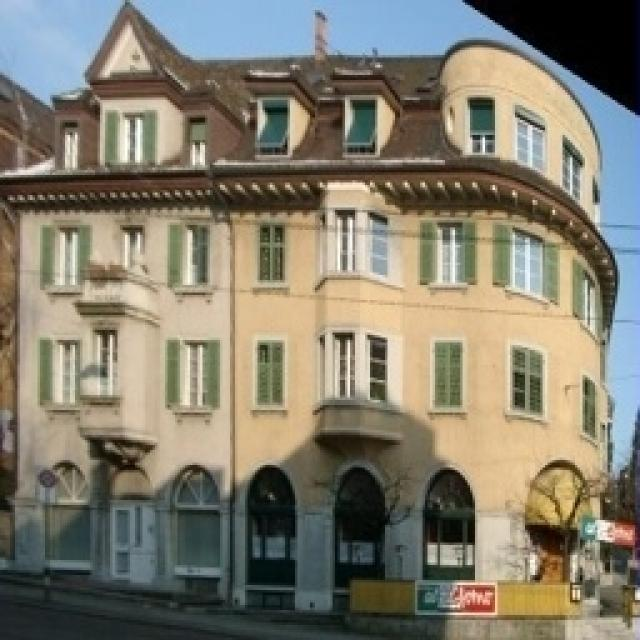building: (32, 32, 640, 640)
